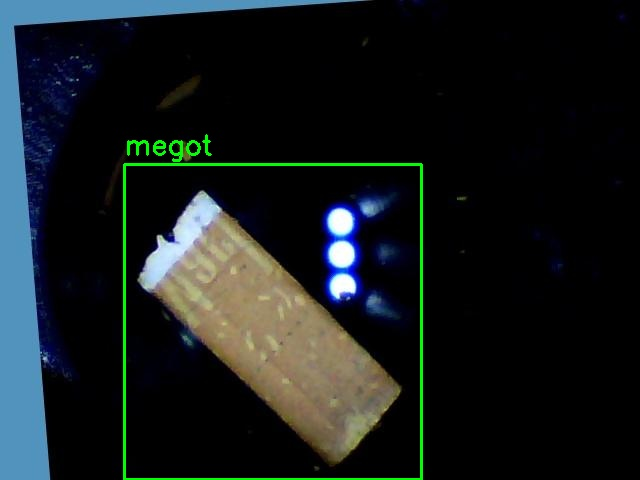megot: (124, 164, 421, 479)
